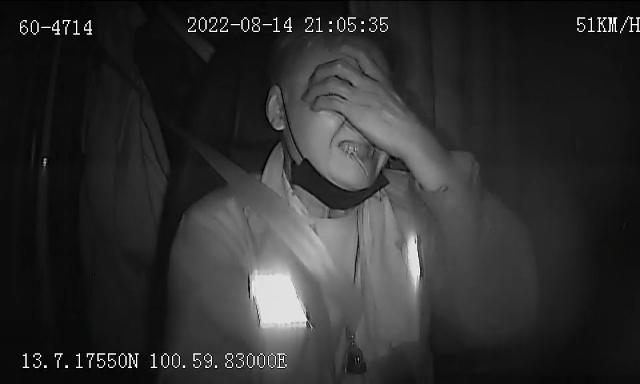Seatbelt: (187, 135, 379, 343)
